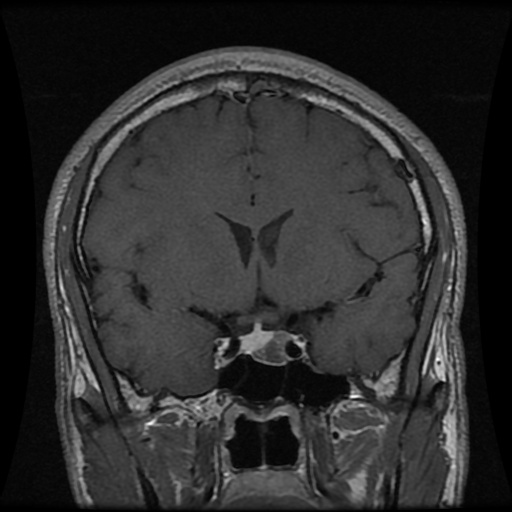pituitary: (239, 323, 292, 365)
